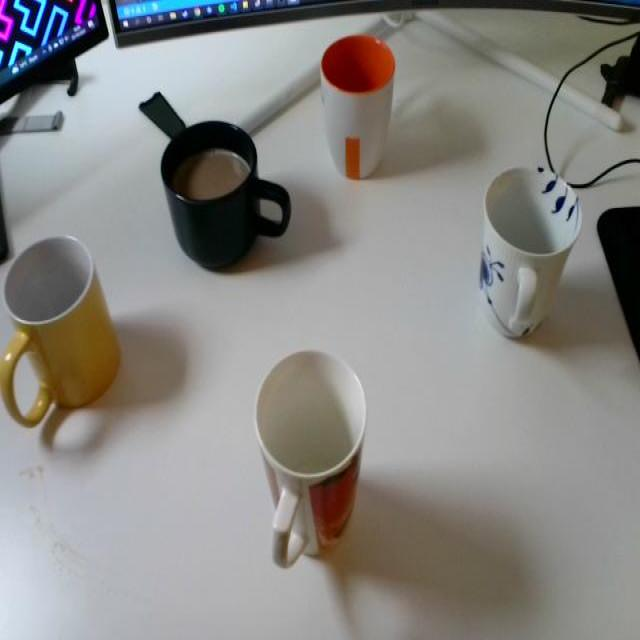cup: (241, 333, 379, 570), (0, 222, 131, 463), (153, 105, 295, 285), (471, 145, 590, 355), (315, 22, 404, 200)
